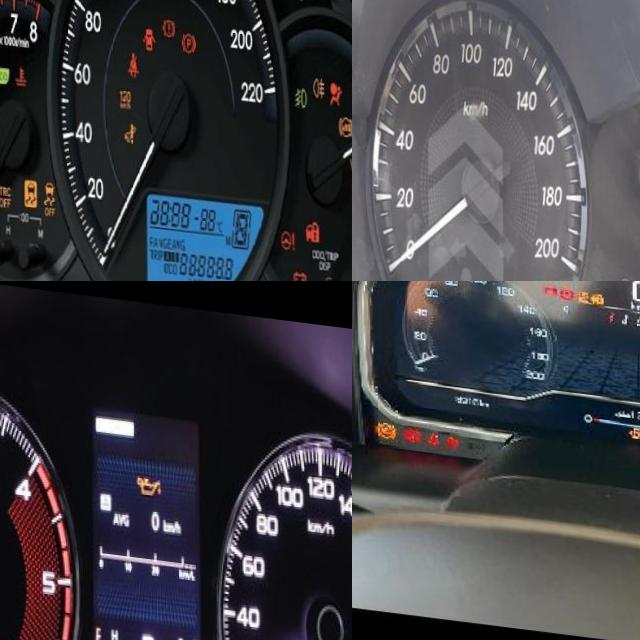Electronic Power Steering: (280, 217, 295, 240)
High Engine Coolant Temperature: (15, 62, 25, 81)
Low fuel level: (631, 419, 640, 431)
Seat Belt: (127, 44, 138, 70)
